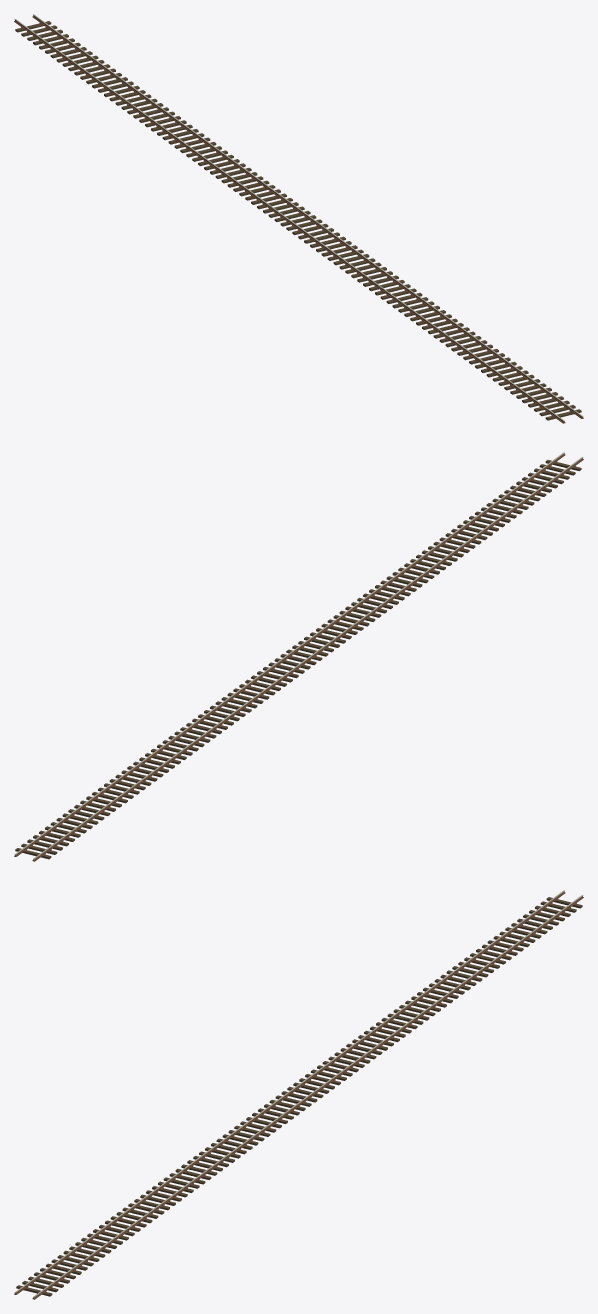
The model's file is Track_SteelRailsAndSleepers.obj.
The picture shows the model from 3 angles, top to bottom: view 1: azimuth 30°, elevation 25°; view 2: azimuth 150°, elevation 25°; view 3: azimuth 330°, elevation 25°; orthographic projection.
Parts seen in each view (by area): view 1: Track_SteelRailsAndSleepers; view 2: Track_SteelRailsAndSleepers; view 3: Track_SteelRailsAndSleepers.
Boxes of the visible parts, <box> form: Track_SteelRailsAndSleepers: <box>14,14,583,423</box>; Track_SteelRailsAndSleepers: <box>14,452,583,861</box>; Track_SteelRailsAndSleepers: <box>14,890,583,1299</box>.
Size of the model in its own units: 1.95 by 0.2435 by 55.
Materials: 1 (1 with a texture image).
